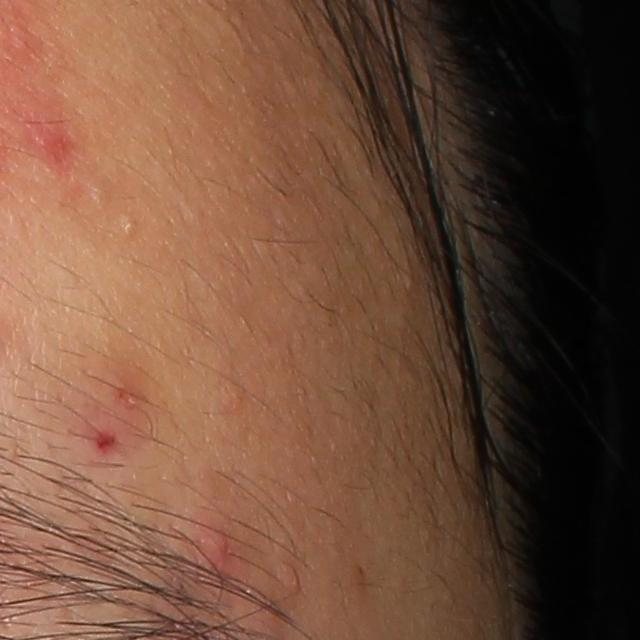comedo: (121, 218, 141, 240)
